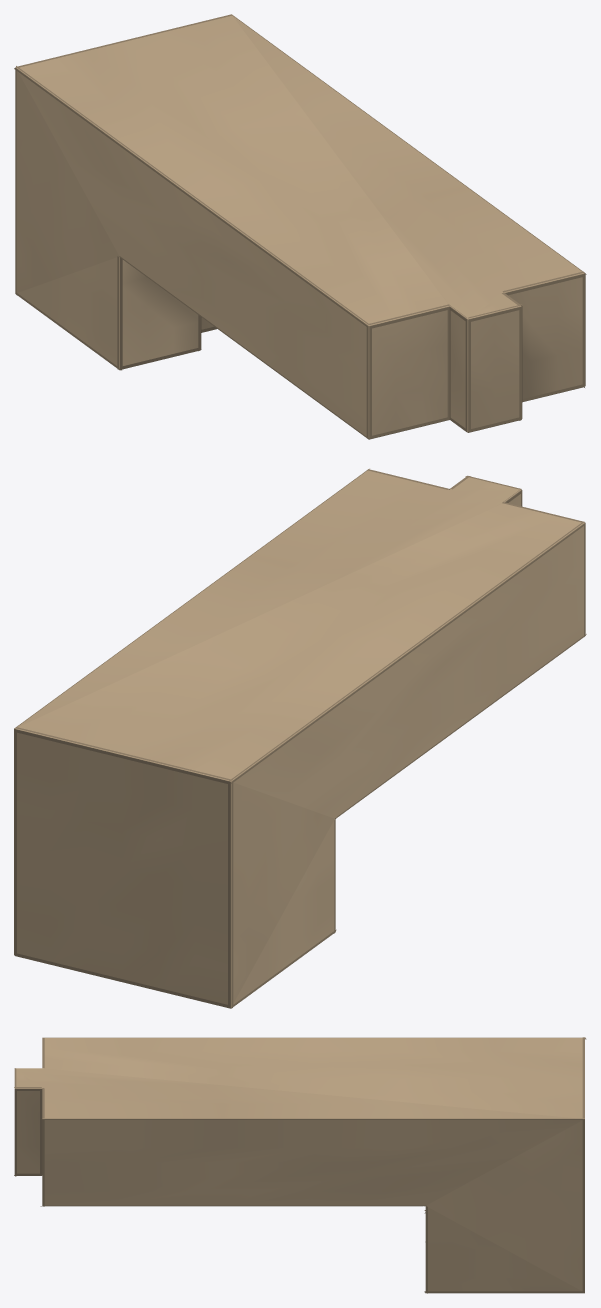
3 renders of one model, top to bottom at view 1: azimuth 30°, elevation 25°; view 2: azimuth 150°, elevation 25°; view 3: azimuth 270°, elevation 25°, orthographic. The views are drawn at different scales.
Parts seen in each view (by area): view 1: part-b; view 2: part-b; view 3: part-b.
Boxes of the visible parts, x1,y1,x2,y2 form: part-b: (14,14,586,439); part-b: (14,468,586,1008); part-b: (14,1037,586,1293).
Size of the model in its own units: 0.1208 by 0.1208 by 0.3588.
